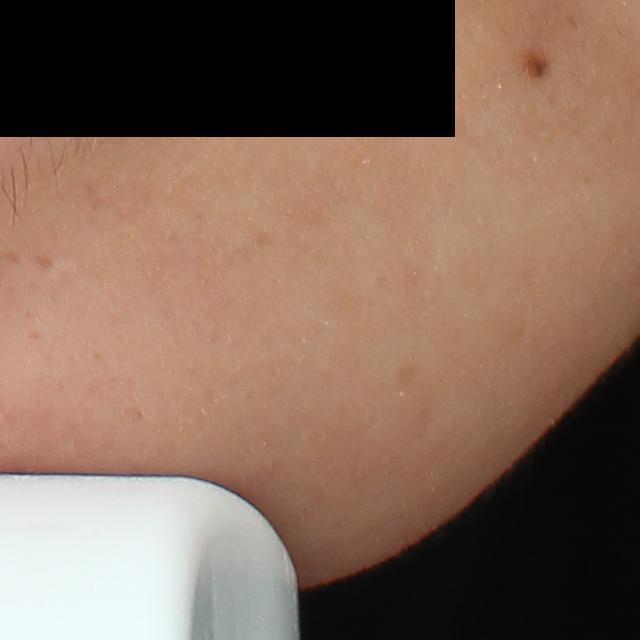atrophic_scar: (32, 253, 57, 270)
nevus: (523, 46, 551, 81)
